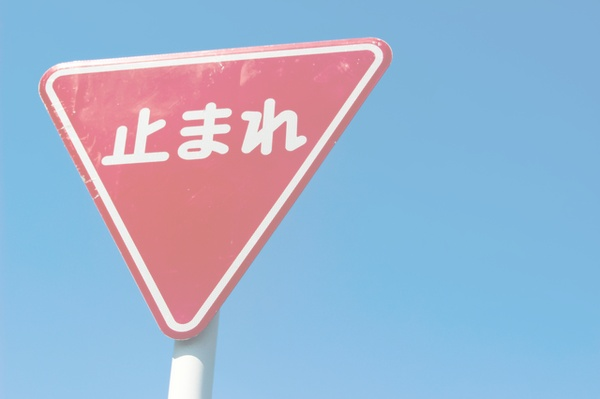Regulatory_sign_triangle: (32, 35, 396, 352)
